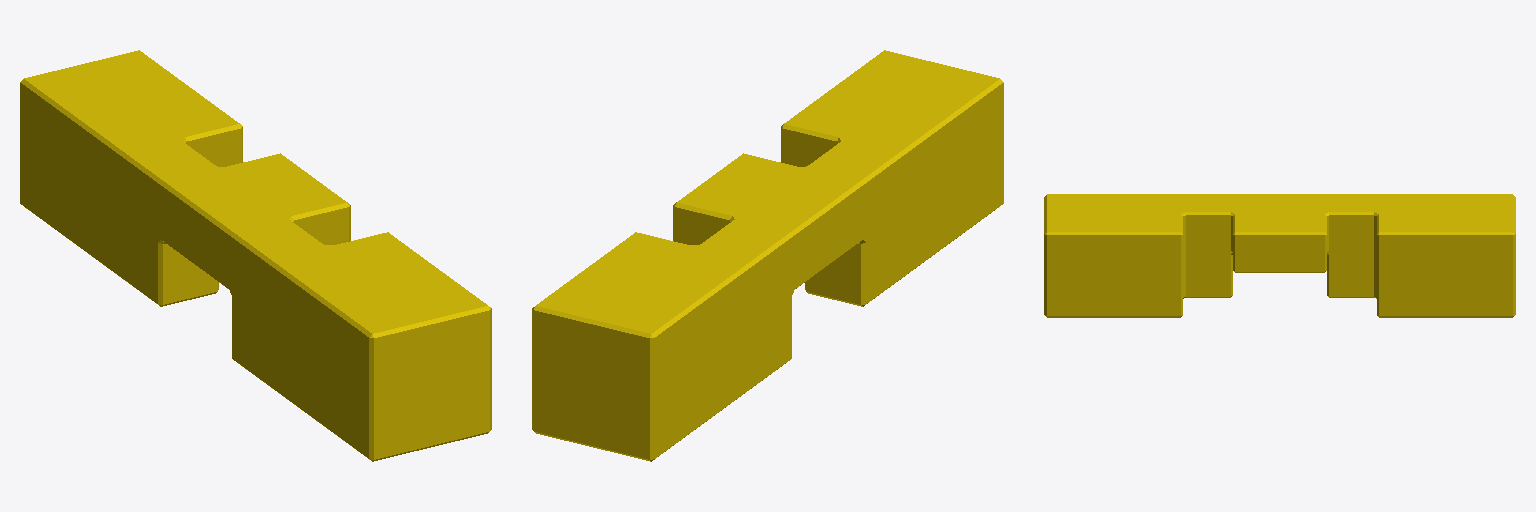
The robot description file, URDF, robot "obj_4":
<robot name="obj_4" version="1.0">
  <link name="obj_4">
    <collision name="obj_4.001">
      <origin rpy="0.00000 0.00000 0.00000" xyz="0.00000 0.00000 0.00000"/>
      <geometry>
        <mesh filename="../meshes/obj/geometry_0.006.obj" scale="1.00000 1.00000 1.00000"/>
      </geometry>
    </collision>
    <collision name="obj_4.002">
      <origin rpy="0.00000 0.00000 0.00000" xyz="0.00000 0.00000 0.00000"/>
      <geometry>
        <mesh filename="../meshes/obj/geometry_1.005.obj" scale="1.00000 1.00000 1.00000"/>
      </geometry>
    </collision>
    <collision name="obj_4.003">
      <origin rpy="0.00000 0.00000 0.00000" xyz="0.00000 0.00000 0.00000"/>
      <geometry>
        <mesh filename="../meshes/obj/geometry_2.005.obj" scale="1.00000 1.00000 1.00000"/>
      </geometry>
    </collision>
    <collision name="obj_4.004">
      <origin rpy="0.00000 0.00000 0.00000" xyz="0.00000 0.00000 0.00000"/>
      <geometry>
        <mesh filename="../meshes/obj/geometry_3.005.obj" scale="1.00000 1.00000 1.00000"/>
      </geometry>
    </collision>
    <collision name="obj_4.005">
      <origin rpy="0.00000 0.00000 0.00000" xyz="0.00000 0.00000 0.00000"/>
      <geometry>
        <mesh filename="../meshes/obj/geometry_4.005.obj" scale="1.00000 1.00000 1.00000"/>
      </geometry>
    </collision>
    <collision name="obj_4.006">
      <origin rpy="0.00000 0.00000 0.00000" xyz="0.00000 0.00000 0.00000"/>
      <geometry>
        <mesh filename="../meshes/obj/geometry_5.004.obj" scale="1.00000 1.00000 1.00000"/>
      </geometry>
    </collision>
    <collision name="obj_4.007">
      <origin rpy="0.00000 0.00000 0.00000" xyz="0.00000 0.00000 0.00000"/>
      <geometry>
        <mesh filename="../meshes/obj/geometry_6.004.obj" scale="1.00000 1.00000 1.00000"/>
      </geometry>
    </collision>
    <collision name="obj_4.008">
      <origin rpy="0.00000 0.00000 0.00000" xyz="0.00000 0.00000 0.00000"/>
      <geometry>
        <mesh filename="../meshes/obj/geometry_7.004.obj" scale="1.00000 1.00000 1.00000"/>
      </geometry>
    </collision>
    <collision name="obj_4.009">
      <origin rpy="0.00000 0.00000 0.00000" xyz="0.00000 0.00000 0.00000"/>
      <geometry>
        <mesh filename="../meshes/obj/geometry_8.003.obj" scale="1.00000 1.00000 1.00000"/>
      </geometry>
    </collision>
    <collision name="obj_4.010">
      <origin rpy="0.00000 0.00000 0.00000" xyz="0.00000 0.00000 0.00000"/>
      <geometry>
        <mesh filename="../meshes/obj/geometry_9.002.obj" scale="1.00000 1.00000 1.00000"/>
      </geometry>
    </collision>
    <collision name="obj_4.011">
      <origin rpy="0.00000 0.00000 0.00000" xyz="0.00000 0.00000 0.00000"/>
      <geometry>
        <mesh filename="../meshes/obj/geometry_10.005.obj" scale="1.00000 1.00000 1.00000"/>
      </geometry>
    </collision>
    <collision name="obj_4.012">
      <origin rpy="0.00000 0.00000 0.00000" xyz="0.00000 0.00000 0.00000"/>
      <geometry>
        <mesh filename="../meshes/obj/geometry_11.005.obj" scale="1.00000 1.00000 1.00000"/>
      </geometry>
    </collision>
    <collision name="obj_4.013">
      <origin rpy="0.00000 0.00000 0.00000" xyz="0.00000 0.00000 0.00000"/>
      <geometry>
        <mesh filename="../meshes/obj/geometry_12.004.obj" scale="1.00000 1.00000 1.00000"/>
      </geometry>
    </collision>
    <collision name="obj_4.014">
      <origin rpy="0.00000 0.00000 0.00000" xyz="0.00000 0.00000 0.00000"/>
      <geometry>
        <mesh filename="../meshes/obj/geometry_13.004.obj" scale="1.00000 1.00000 1.00000"/>
      </geometry>
    </collision>
    <collision name="obj_4.015">
      <origin rpy="0.00000 0.00000 0.00000" xyz="0.00000 0.00000 0.00000"/>
      <geometry>
        <mesh filename="../meshes/obj/geometry_14.004.obj" scale="1.00000 1.00000 1.00000"/>
      </geometry>
    </collision>
    <collision name="obj_4.016">
      <origin rpy="0.00000 0.00000 0.00000" xyz="0.00000 0.00000 0.00000"/>
      <geometry>
        <mesh filename="../meshes/obj/geometry_15.obj" scale="1.00000 1.00000 1.00000"/>
      </geometry>
    </collision>
    <collision name="obj_4.017">
      <origin rpy="0.00000 0.00000 0.00000" xyz="0.00000 0.00000 0.00000"/>
      <geometry>
        <mesh filename="../meshes/obj/geometry_16.obj" scale="1.00000 1.00000 1.00000"/>
      </geometry>
    </collision>
    <collision name="obj_4.018">
      <origin rpy="0.00000 0.00000 0.00000" xyz="0.00000 0.00000 0.00000"/>
      <geometry>
        <mesh filename="../meshes/obj/geometry_17.obj" scale="1.00000 1.00000 1.00000"/>
      </geometry>
    </collision>
    <inertial>
      <inertia ixx="0.00023" ixy="-0.00000" ixz="-0.00000" iyy="0.00002" iyz="0.00000" izz="0.00023"/>
      <origin rpy="0.00000 0.00000 0.00000" xyz="0.00000 0.00000 0.00000"/>
      <mass value="0.01000"/>
    </inertial>
    <visual name="obj_4_vis">
      <material name="turnarrow_yellow"/>
      <origin rpy="1.57080 0.00000 1.57080" xyz="-0.31086 0.25043 0.25278"/>
      <geometry>
        <mesh filename="../meshes/obj/obj_1_LUBAANSUO2.stp.003.obj" scale="0.00500 0.00500 0.00500"/>
      </geometry>
    </visual>
  </link>
  <material name="turnarrow_yellow">
    <color rgba="0.87059 0.77255 0.05098 1.00000"/>
  </material>
</robot>

--- What the picture shows (computed from the rendered views, not written in the file) ---
The picture shows the robot from 3 angles, left to right: view 1: azimuth 30°, elevation 25°; view 2: azimuth 150°, elevation 25°; view 3: azimuth 270°, elevation 25°; orthographic projection.
Model obj_4 with 1 links and 0 joints (none), rooted at obj_4, posed all joints at 0.
Links seen in each view (by area): view 1: obj_4; view 2: obj_4; view 3: obj_4.
Link boxes in pixels (x1,y1,x2,y2): obj_4: (20, 50, 491, 461); obj_4: (532, 50, 1003, 461); obj_4: (1044, 194, 1515, 317).
Bounding box of the posed robot: 0.1 × 0.5 × 0.1 m (x, y, z).
Meshes: 1 distinct files referenced, 1 mesh visuals loaded (1 OBJ).